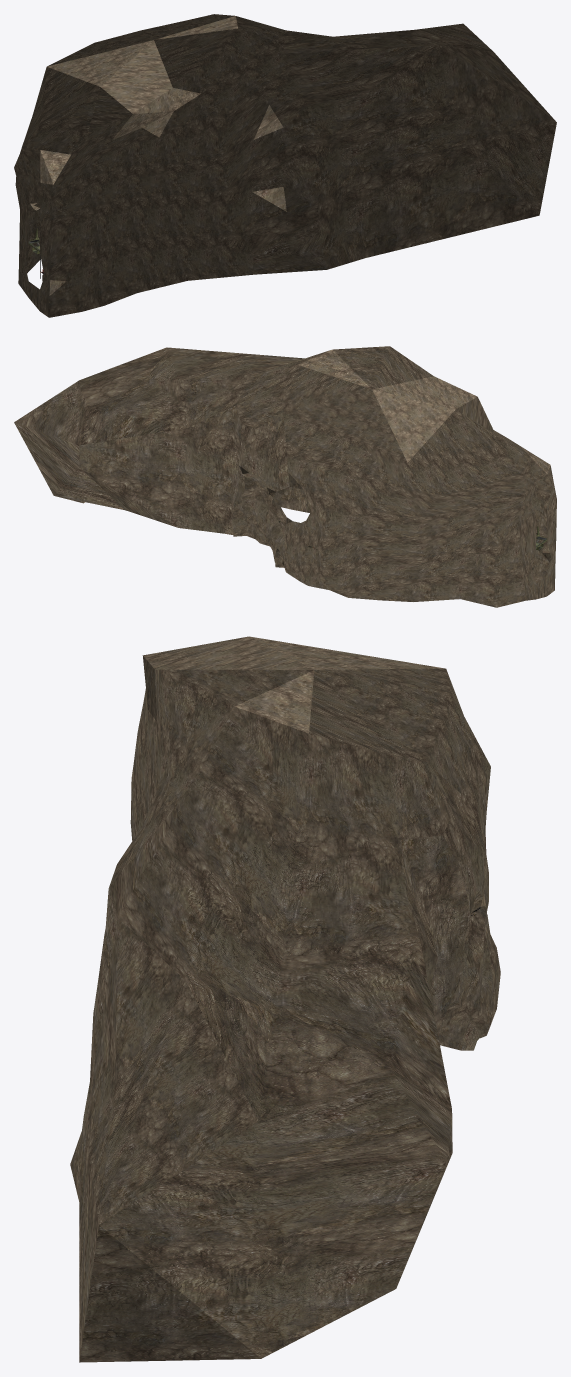
File: stg610_11.obj
3 views of the same model, one above another, from view 1: azimuth 30°, elevation 25°; view 2: azimuth 150°, elevation 25°; view 3: azimuth 270°, elevation 25° (orthographic). The views are drawn at different scales.
Parts seen in each view (by area): view 1: polygon1; view 2: polygon1; view 3: polygon1.
Part boxes in pixels (box(x1,y1,x2,y2)): polygon1: box(14, 14, 556, 317); polygon1: box(14, 346, 556, 607); polygon1: box(70, 636, 500, 1362).
Size of the model in its own units: 4747 by 2015 by 1889.
Materials: 28 (28 with a texture image).
